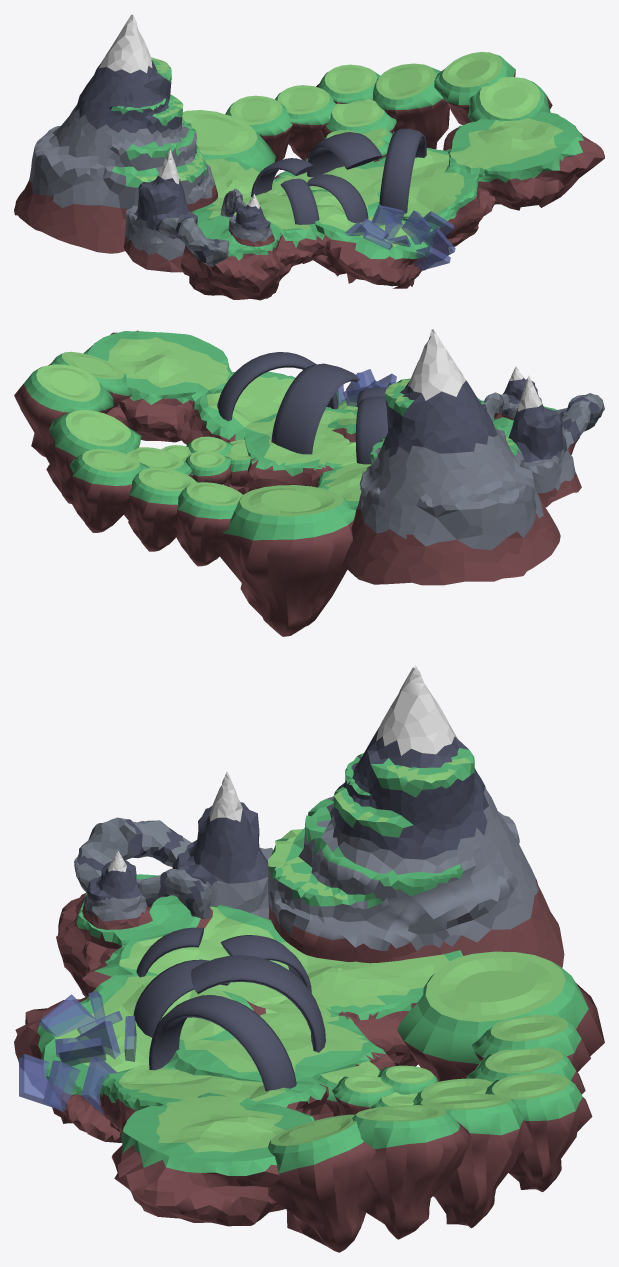
File: CompleteLand_Colorized.fbx
The picture shows the model from 3 angles, top to bottom: view 1: azimuth 30°, elevation 25°; view 2: azimuth 150°, elevation 25°; view 3: azimuth 270°, elevation 25°; orthographic projection. The views are drawn at different scales.
Visible parts, largest first — view 1: land_mass:polySurface14, thenippleking:polySurface16, polySurface18, pCone42, pCone46, pCone41, pCone35, pCone47, pPipe6, pCone45, pPipe7, pCone43 (+12 smaller); view 2: thenippleking:polySurface16, land_mass:polySurface14, pCone46, polySurface18, pCone41, pCone44, pPipe7, pCone42, pCone45, pCone47, pPipe6, pPipe9 (+8 smaller); view 3: land_mass:polySurface14, thenippleking:polySurface16, pCone46, pCone41, pCone35, pCone42, polySurface18, pCone44, pPipe6, polySurface20, pPipe7, polySurface15 (+15 smaller).
Part boxes in pixels (x1=…): land_mass:polySurface14: x1=181, y1=111, x2=604, y2=300; thenippleking:polySurface16: x1=14, y1=14, x2=217, y2=253; polySurface18: x1=123, y1=149, x2=197, y2=272; pCone42: x1=373, y1=63, x2=449, y2=149; pCone46: x1=182, y1=110, x2=275, y2=170; pCone41: x1=434, y1=52, x2=515, y2=124; pCone35: x1=468, y1=77, x2=552, y2=122; pCone47: x1=275, y1=85, x2=335, y2=160; pPipe6: x1=379, y1=128, x2=426, y2=213; pCone45: x1=225, y1=95, x2=292, y2=161; pPipe7: x1=307, y1=132, x2=382, y2=177; pCone43: x1=319, y1=99, x2=396, y2=138; thenippleking:polySurface16: x1=342, y1=329, x2=560, y2=585; land_mass:polySurface14: x1=83, y1=330, x2=579, y2=510; pCone46: x1=214, y1=485, x2=355, y2=636; polySurface18: x1=508, y1=375, x2=581, y2=507; pCone41: x1=14, y1=364, x2=113, y2=457; pCone44: x1=64, y1=449, x2=149, y2=532; pPipe7: x1=271, y1=363, x2=359, y2=454; pCone42: x1=42, y1=410, x2=141, y2=503; pCone45: x1=169, y1=482, x2=242, y2=566; pCone47: x1=121, y1=467, x2=198, y2=551; pPipe6: x1=217, y1=352, x2=338, y2=421; pPipe9: x1=355, y1=396, x2=387, y2=464; land_mass:polySurface14: x1=14, y1=874, x2=462, y2=1226; thenippleking:polySurface16: x1=268, y1=665, x2=564, y2=967; pCone46: x1=397, y1=951, x2=604, y2=1081; pCone41: x1=352, y1=1105, x2=471, y2=1239; pCone35: x1=268, y1=1114, x2=375, y2=1252; pCone42: x1=414, y1=1093, x2=533, y2=1228; polySurface18: x1=172, y1=771, x2=273, y2=918; pCone44: x1=485, y1=1073, x2=592, y2=1191; pPipe6: x1=149, y1=995, x2=296, y2=1091; polySurface20: x1=74, y1=817, x2=191, y2=892; pPipe7: x1=191, y1=955, x2=325, y2=1052; polySurface15: x1=82, y1=851, x2=152, y2=929.
Size of the model in its own units: 2531 by 1391 by 1761.
